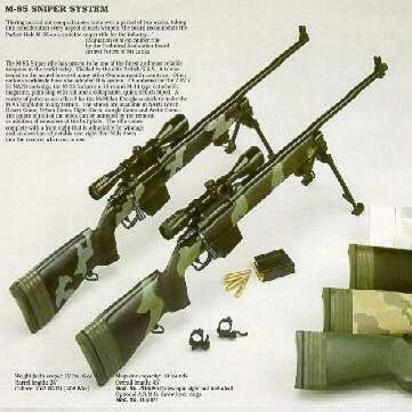Gun: (88, 50, 396, 384), (0, 19, 308, 337)
